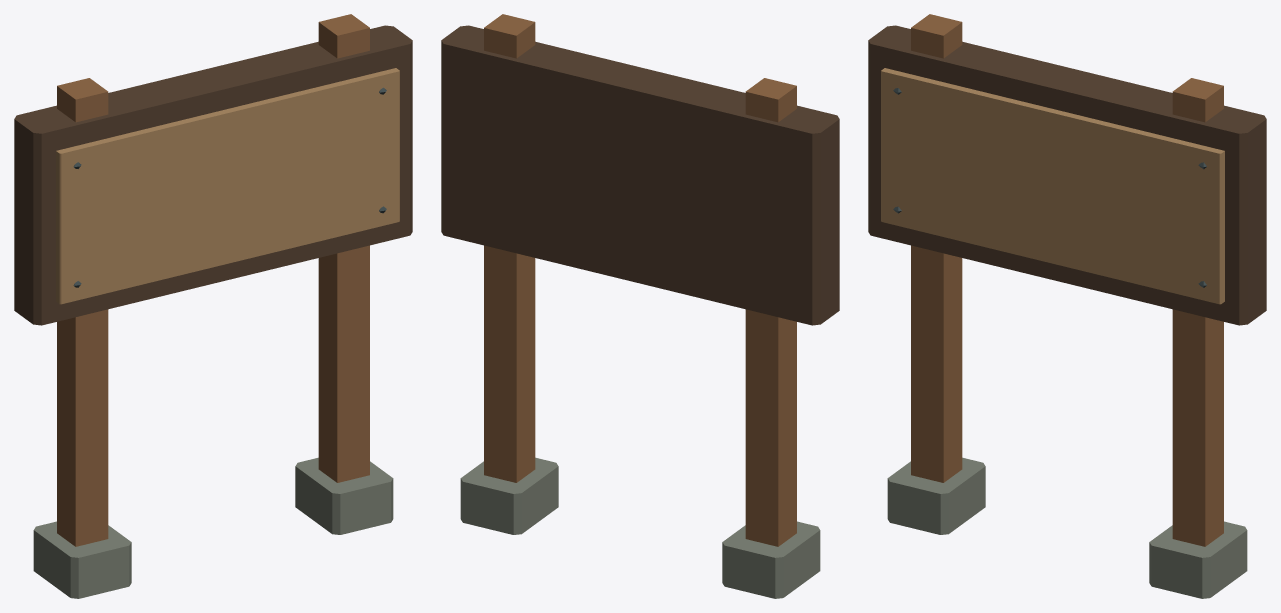
Rendered from decor_farm_sign.glb.
The picture shows the model from 3 angles, left to right: view 1: azimuth 30°, elevation 25°; view 2: azimuth 150°, elevation 25°; view 3: azimuth 330°, elevation 25°; orthographic projection.
Visible parts, largest first — view 1: geometry; view 2: geometry; view 3: geometry.
Part boxes in pixels (x1,y1,x2,y2): geometry: (14,14,412,598); geometry: (441,14,839,598); geometry: (868,14,1266,598).
Size of the model in its own units: 0.87 by 1.07 by 0.17.
